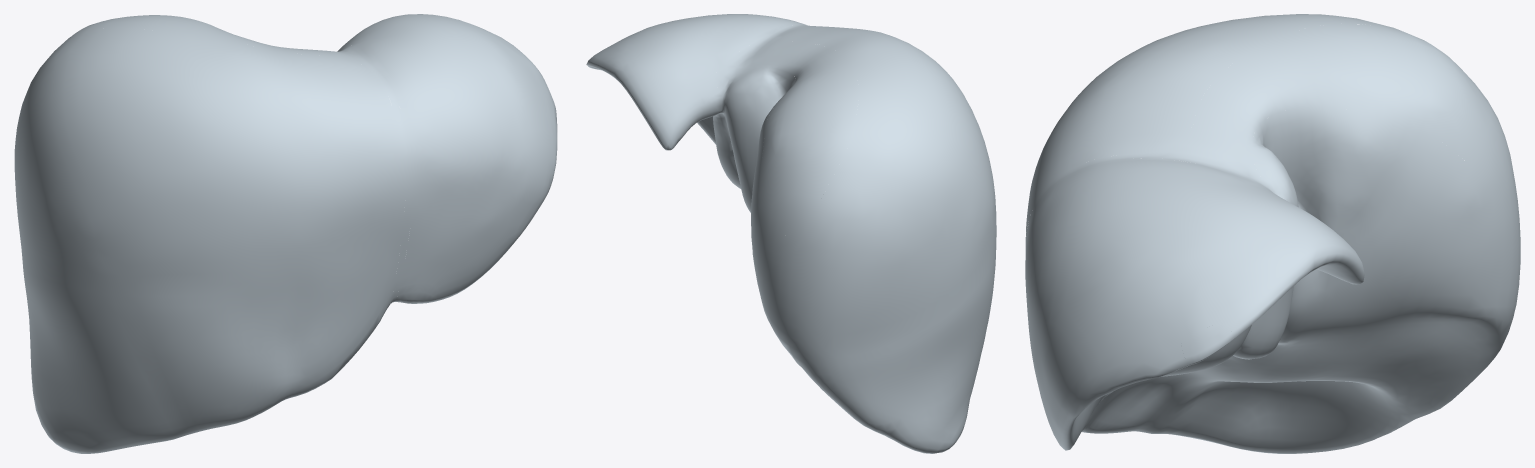
File: foie.glb
3 views of the same model, side by side, from view 1: azimuth 30°, elevation 25°; view 2: azimuth 150°, elevation 25°; view 3: azimuth 270°, elevation 25° (orthographic). The views are drawn at different scales.
Parts seen in each view (by area): view 1: foie; view 2: foie; view 3: foie.
Boxes of the visible parts, bbox=[...] form: foie: bbox=[14, 14, 557, 453]; foie: bbox=[586, 14, 996, 453]; foie: bbox=[1025, 14, 1520, 453].
Bounding box in the file's own units: 0.2063 × 0.1663 × 0.1532.
